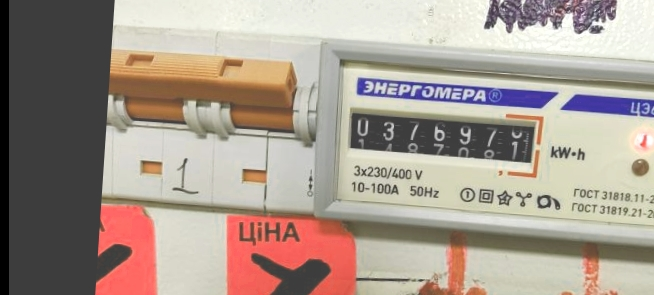0: (355, 114, 372, 136)
1: (509, 139, 522, 160)
3: (381, 118, 397, 142)
6: (433, 120, 448, 142)
7: (407, 117, 422, 142), (484, 124, 499, 148)
9: (458, 122, 473, 145)
screen: (341, 100, 548, 181)
